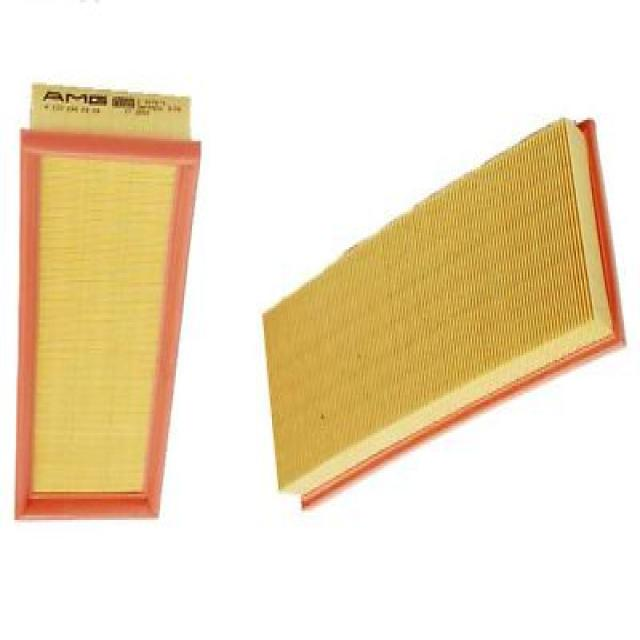air_filter: (258, 114, 628, 513), (0, 80, 203, 527)
